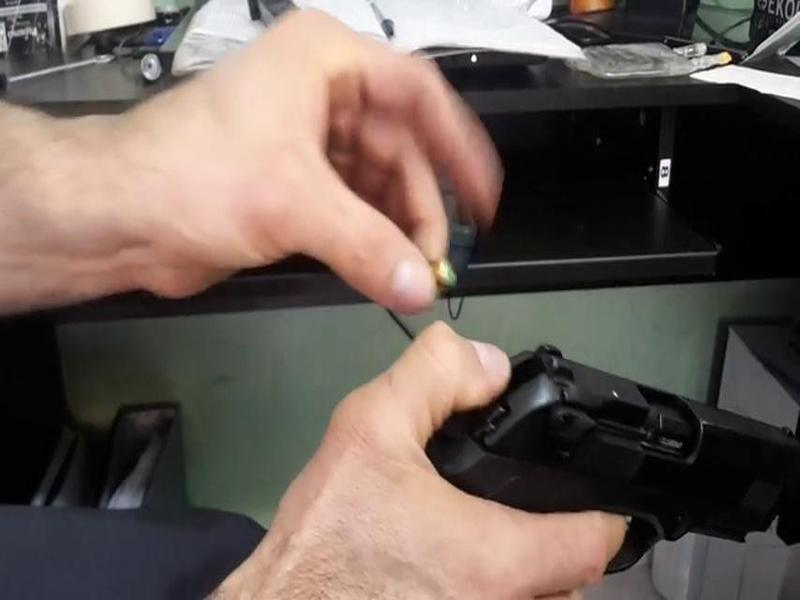Pistola: (404, 312, 800, 576)
